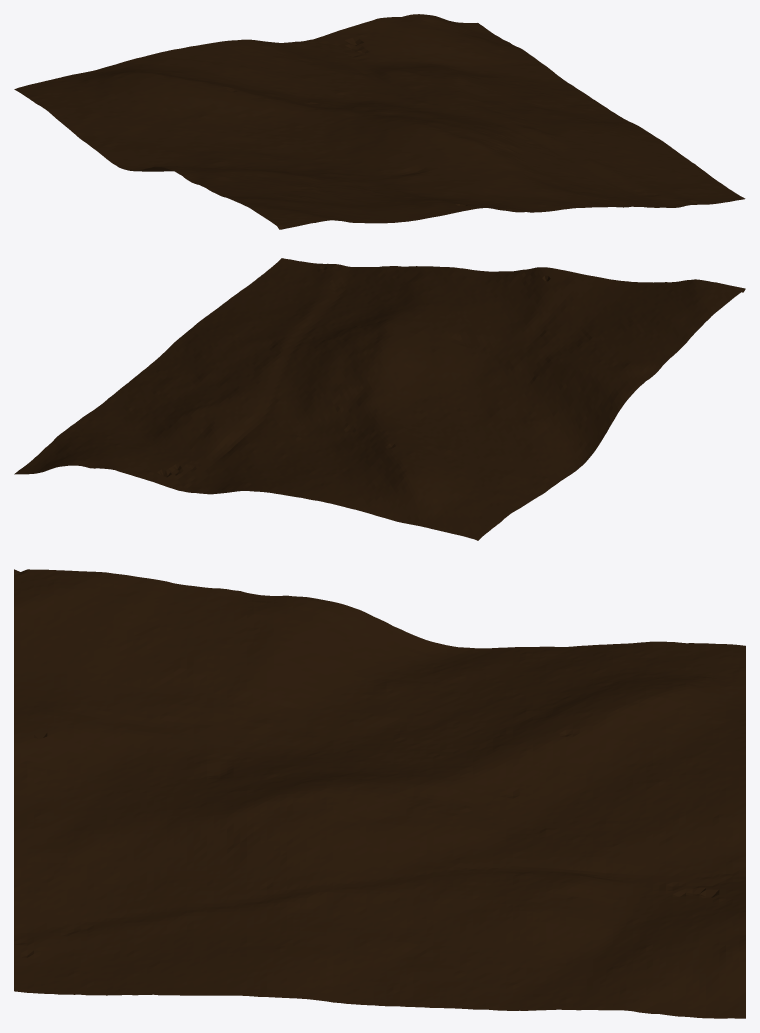
Rendered from dem_2022_Why_110m_minus5_105.obj.
3 renders of one model, top to bottom at view 1: azimuth 30°, elevation 25°; view 2: azimuth 150°, elevation 25°; view 3: azimuth 270°, elevation 25°, orthographic. The views are drawn at different scales.
Parts seen in each view (by area): view 1: dem; view 2: dem; view 3: dem.
Part boxes in pixels (<box>): dem: <box>14,14,745,229</box>; dem: <box>14,258,745,540</box>; dem: <box>14,569,745,1018</box>.
Bounding box in the file's own units: 110 × 23.25 × 110.
